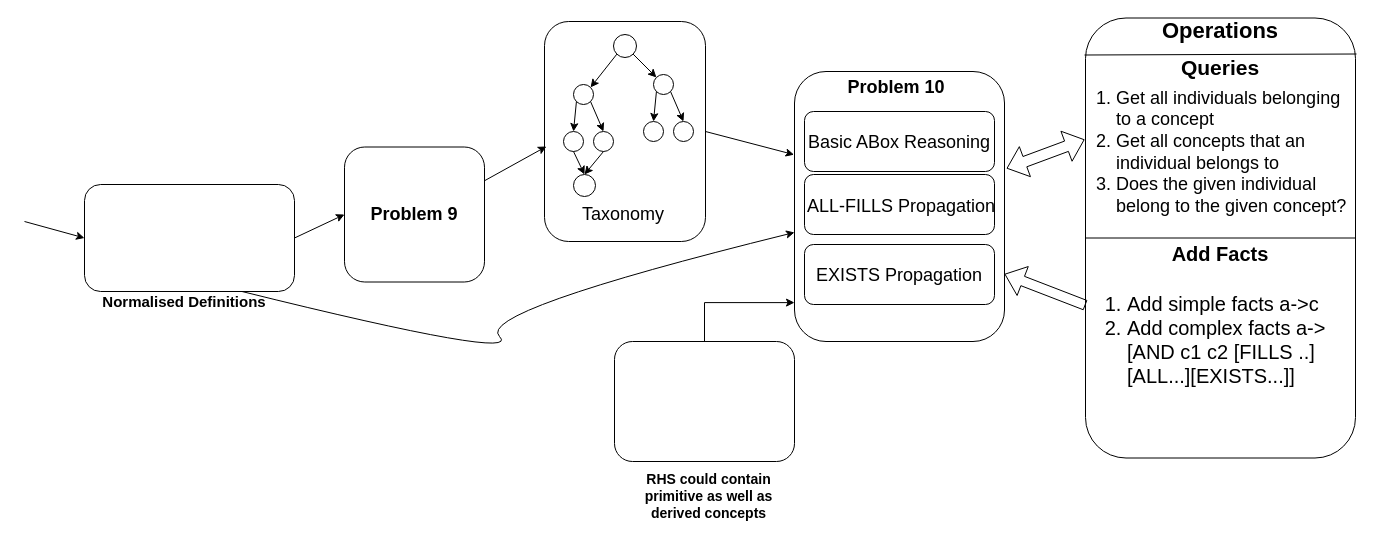
This 1375x538 diagram has some shape labels left out. Each missing label, with the box of its shape:
Concept Definitions in KB TBox: (84, 184, 294, 292)
Facts in KB ABox: (614, 340, 794, 462)
